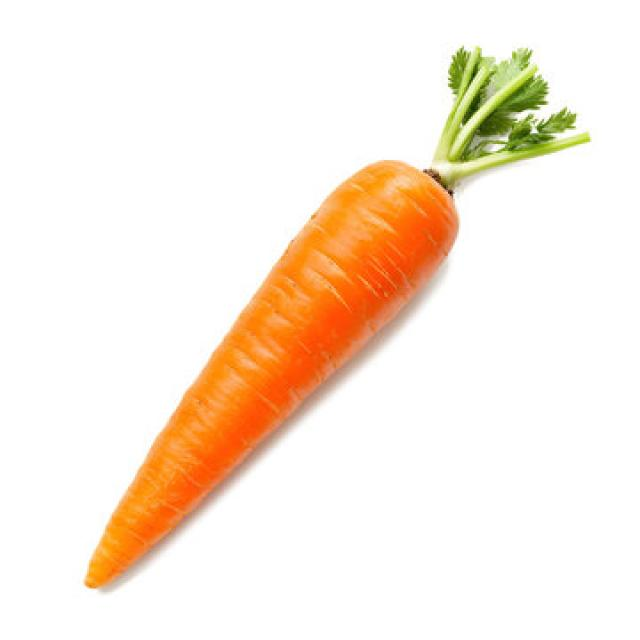Carrot: (82, 43, 590, 590)
